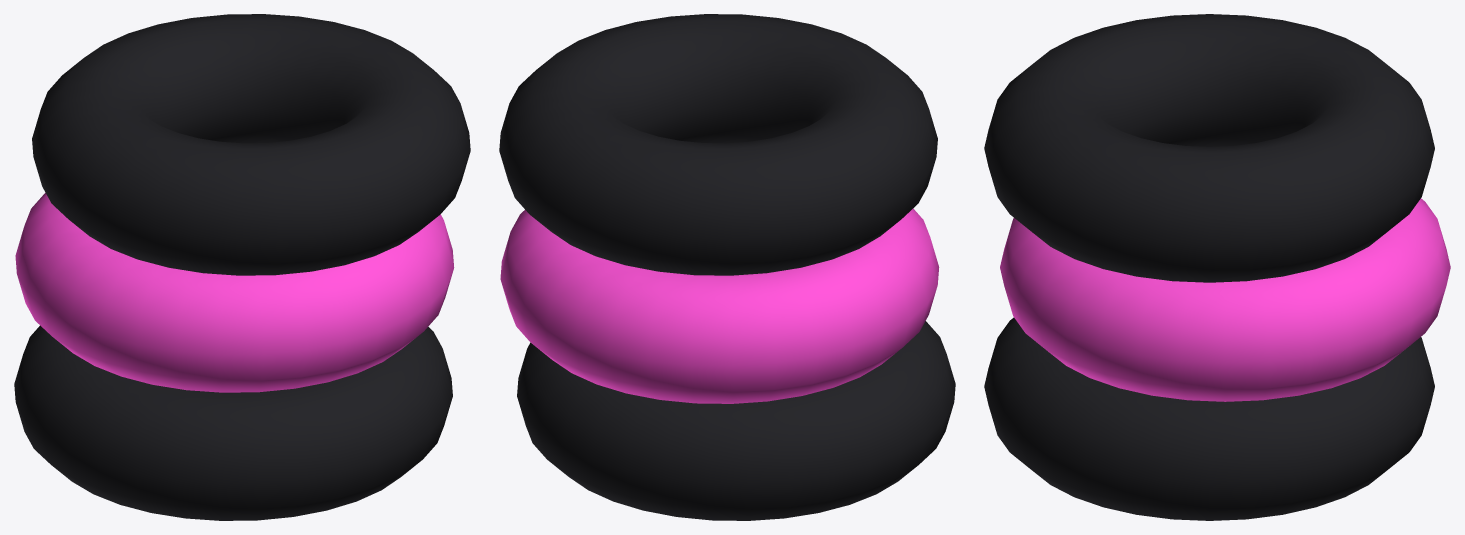
Rendered from Trash_TireStack.fbx.
The picture shows the model from 3 angles, left to right: view 1: azimuth 30°, elevation 25°; view 2: azimuth 150°, elevation 25°; view 3: azimuth 270°, elevation 25°; orthographic projection. The views are drawn at different scales.
Visible parts, largest first — view 1: Trash_TireStack; view 2: Trash_TireStack; view 3: Trash_TireStack.
Part boxes in pixels (box(x1,y1,x2,y2)): Trash_TireStack: box(14, 14, 470, 520); Trash_TireStack: box(499, 14, 955, 520); Trash_TireStack: box(984, 14, 1450, 520).
Bounding box in the file's own units: 0.9 × 0.78 × 0.89.
